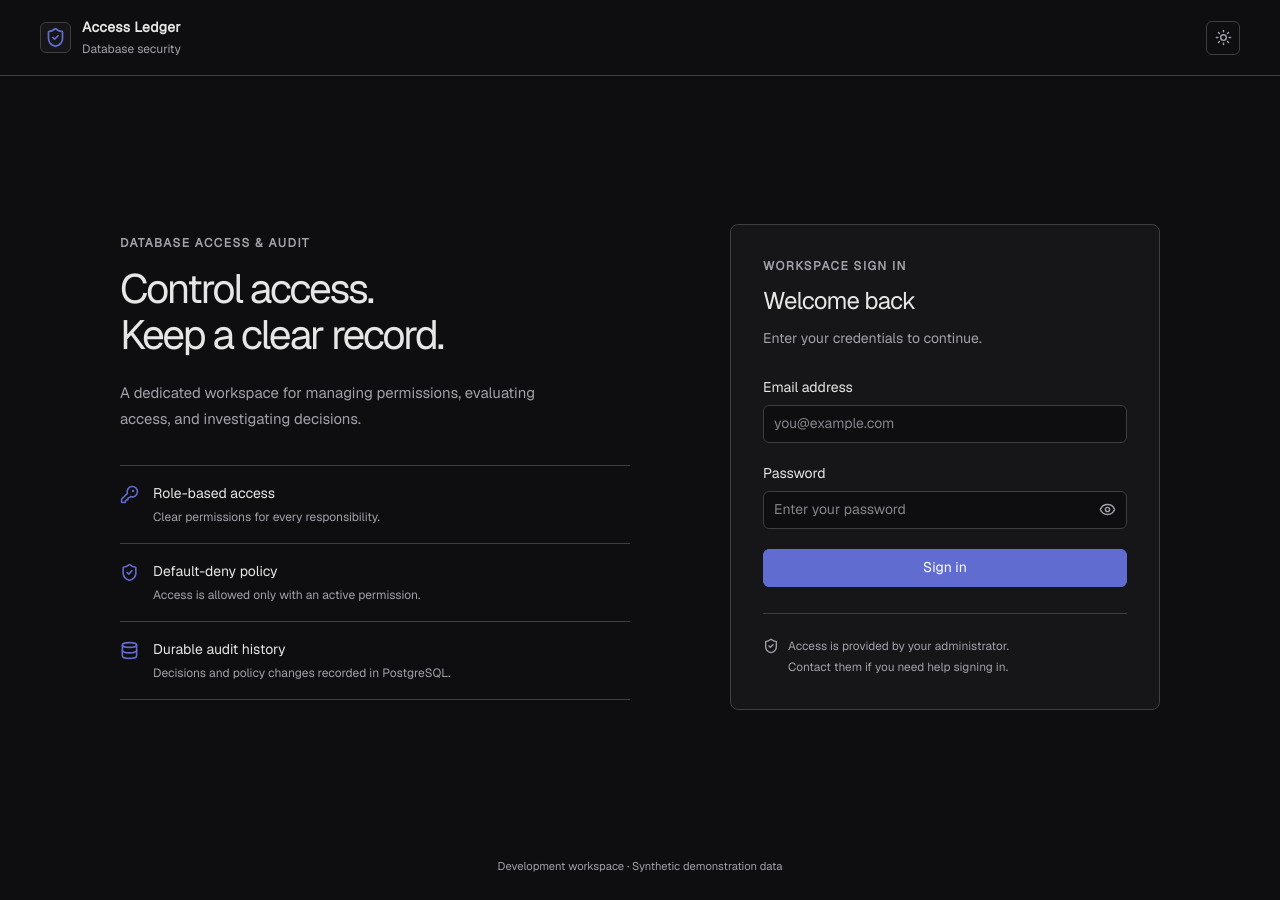
Test: authentication and protected navigation › posts login CSRF and credentials, then displays real API dashboard data
Type "analyst@example.com" into the field labelled "Email address".
click(945, 424); type("analyst@example.com")  # box x1=763 y1=405 x2=1127 y2=443
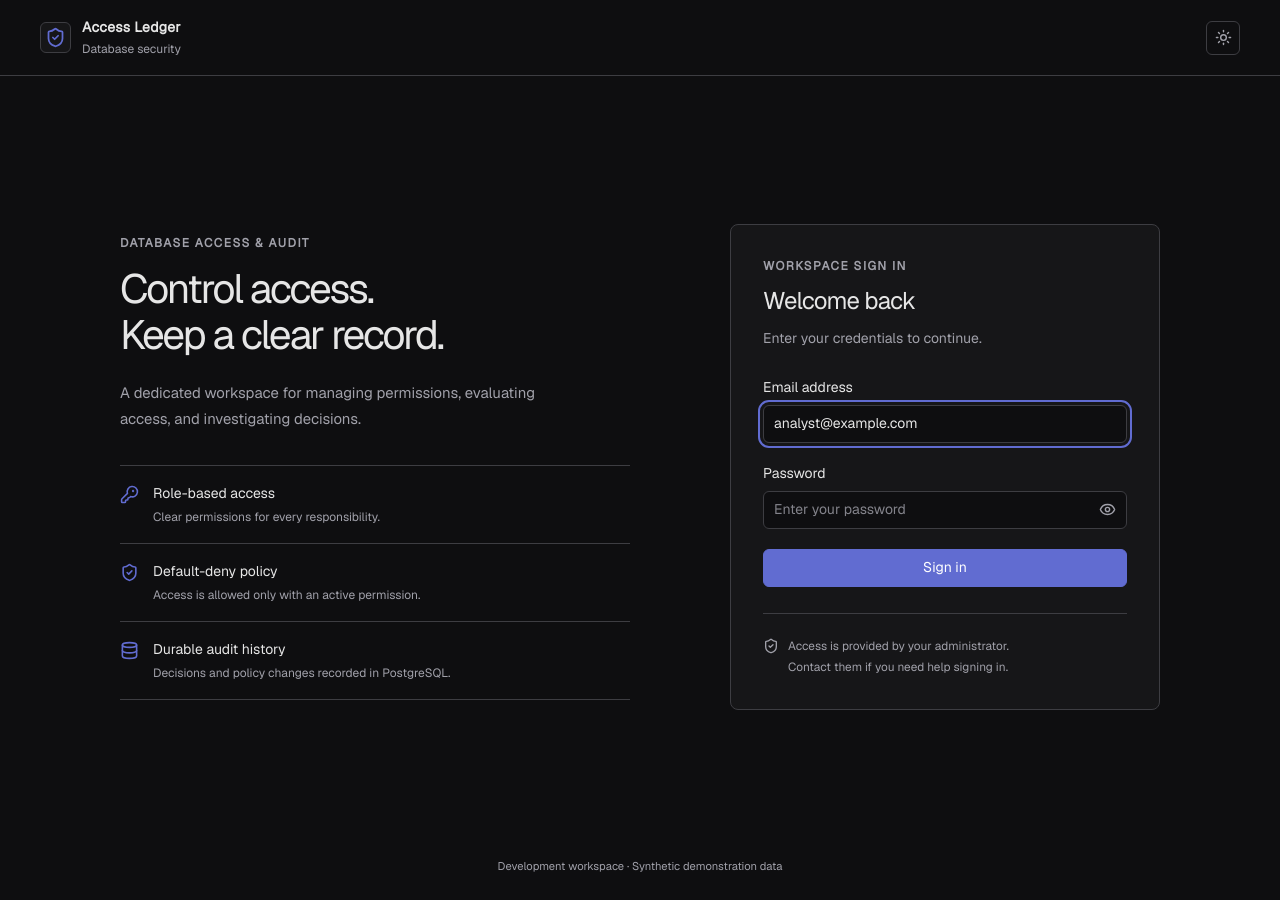
Type "AccessDemo!2026#" into the password field labelled "Password".
click(945, 510); type("AccessDemo!2026#")  # box x1=763 y1=491 x2=1127 y2=529
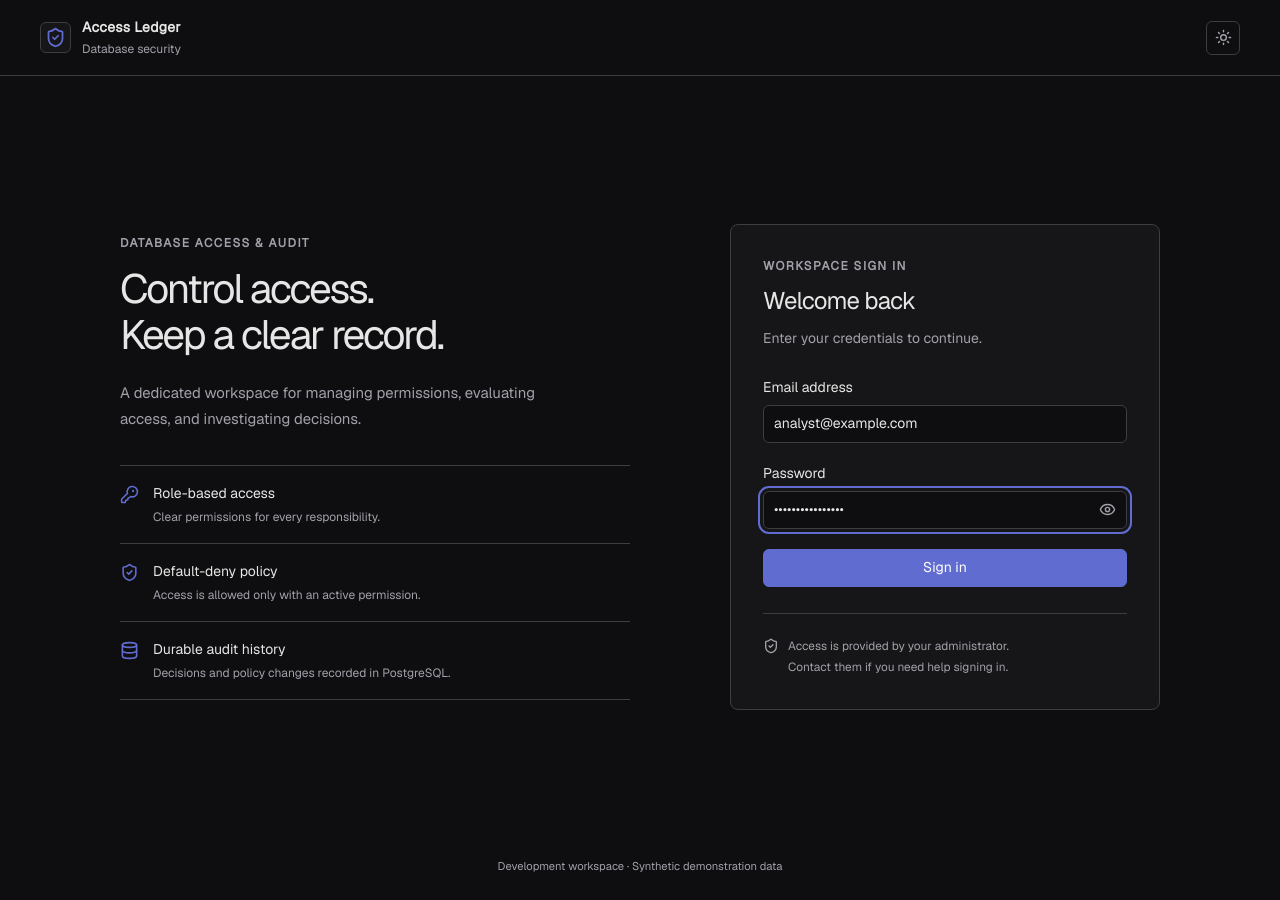
Click the button "Sign in".
click(945, 568)  # box x1=763 y1=549 x2=1127 y2=587
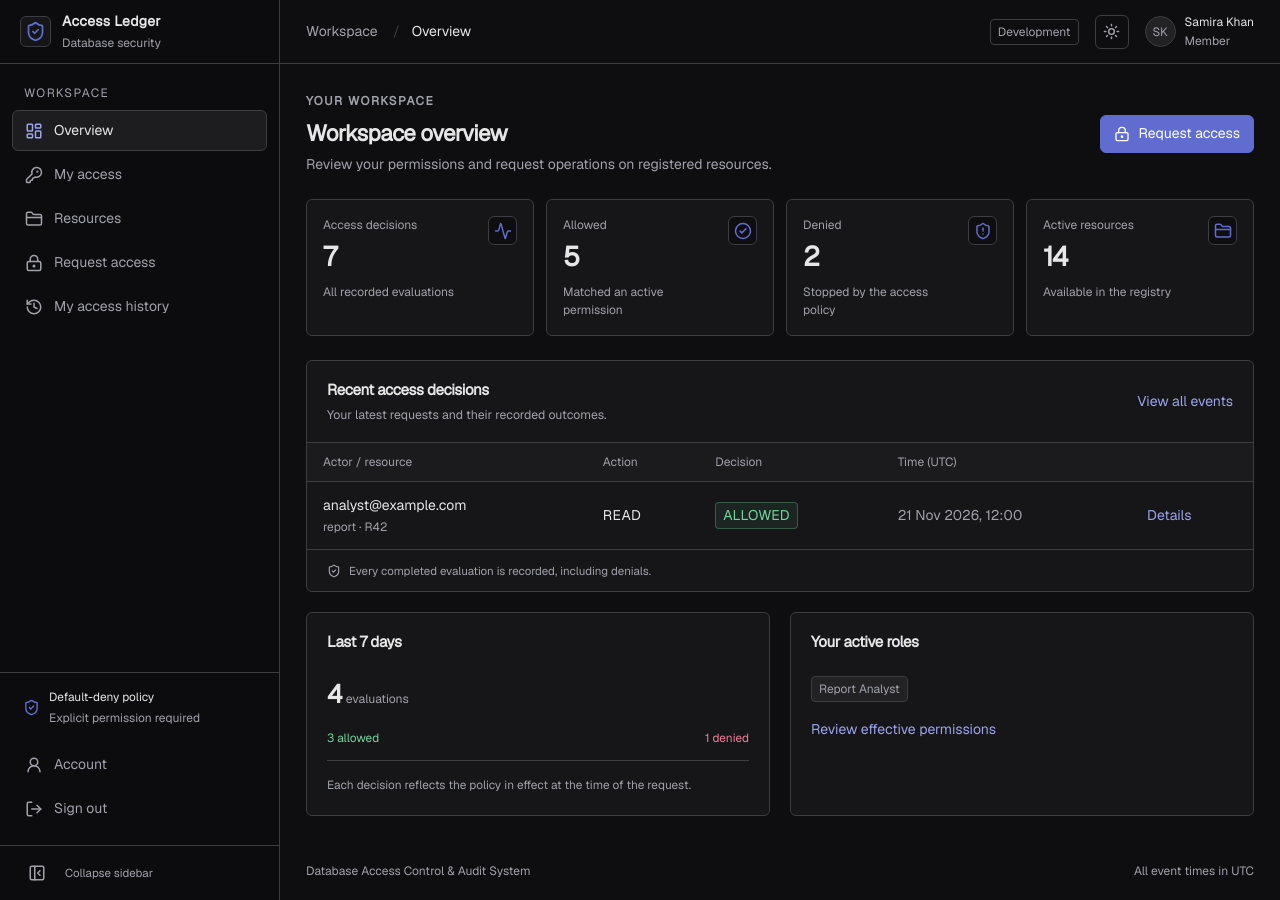
Expected: the heading "Workspace overview" is shown, x1=306 y1=118 x2=507 y2=148
Expected: the text "7" is shown, x1=323 y1=239 x2=336 y2=274
